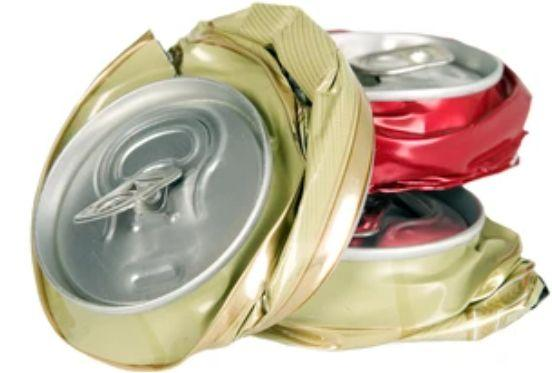metal: (30, 1, 374, 372), (243, 180, 549, 351), (298, 29, 533, 192)
